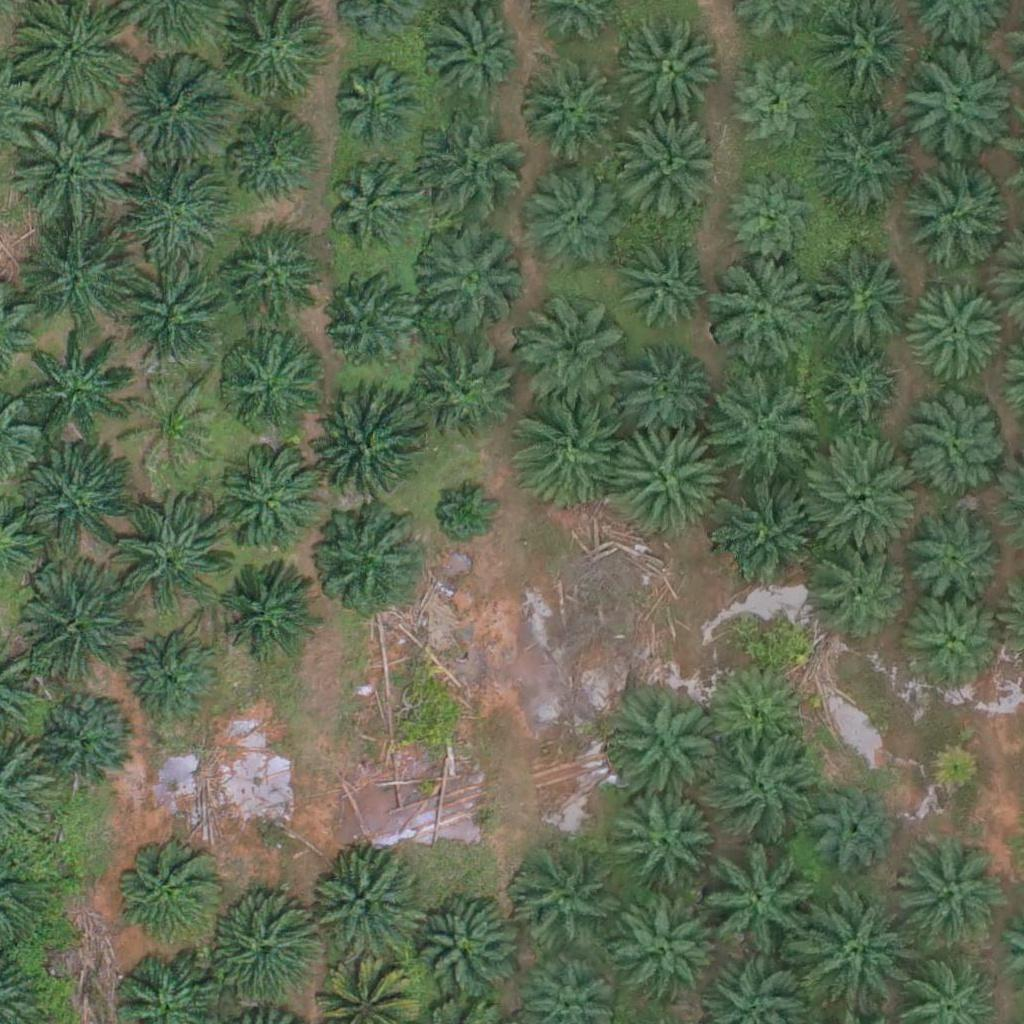Kelapa_Sawit: (22, 568, 135, 682), (893, 54, 1006, 167), (701, 359, 814, 472), (714, 476, 827, 589), (608, 423, 721, 536), (513, 164, 626, 277), (513, 283, 626, 396), (505, 397, 618, 510), (797, 900, 910, 1013), (703, 849, 816, 962), (608, 692, 721, 805), (405, 894, 518, 1007), (410, 224, 523, 337), (309, 393, 422, 506), (23, 442, 136, 555), (13, 116, 126, 229), (704, 257, 816, 371), (514, 57, 626, 171), (217, 443, 329, 557), (118, 154, 230, 268), (119, 267, 231, 381), (112, 832, 224, 946), (126, 51, 238, 165), (891, 159, 1003, 272), (809, 107, 921, 220), (806, 247, 918, 360), (806, 435, 918, 548), (617, 110, 729, 223), (894, 836, 1006, 949), (709, 732, 821, 845), (611, 882, 723, 995), (505, 845, 617, 958), (308, 851, 420, 964), (198, 895, 310, 1008), (417, 107, 529, 220), (311, 509, 423, 622), (115, 498, 227, 611), (20, 329, 132, 442), (24, 214, 136, 327), (612, 11, 724, 124), (220, 2, 332, 115), (905, 285, 1005, 386), (905, 397, 1005, 498), (907, 506, 1007, 607), (802, 545, 902, 646), (615, 342, 715, 443), (619, 229, 719, 330), (708, 662, 808, 763), (616, 796, 716, 897), (419, 343, 519, 444), (316, 275, 416, 376), (125, 371, 225, 472), (32, 689, 132, 790), (907, 592, 1007, 692), (218, 562, 318, 662), (222, 233, 322, 333), (215, 334, 315, 434), (121, 635, 221, 735), (425, 5, 525, 105), (810, 343, 898, 431), (727, 173, 815, 261), (815, 782, 903, 870), (327, 162, 415, 250), (224, 116, 312, 204), (330, 59, 418, 147), (730, 63, 817, 151), (429, 472, 504, 547), (920, 740, 983, 803)
